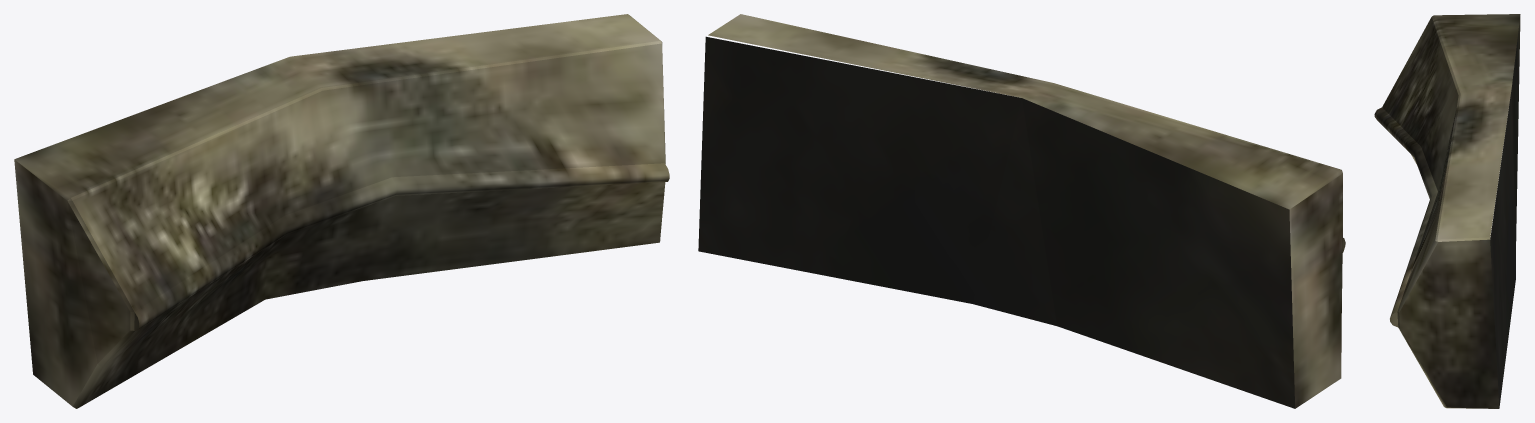
File: prop_vehicle_crusader2_part2.glb
3 views of the same model, side by side, from view 1: azimuth 30°, elevation 25°; view 2: azimuth 150°, elevation 25°; view 3: azimuth 270°, elevation 25° (orthographic). The views are drawn at different scales.
Bounding box in the file's own units: 61.55 × 24.63 × 16.05.
Materials: 1 (1 with a texture image).
